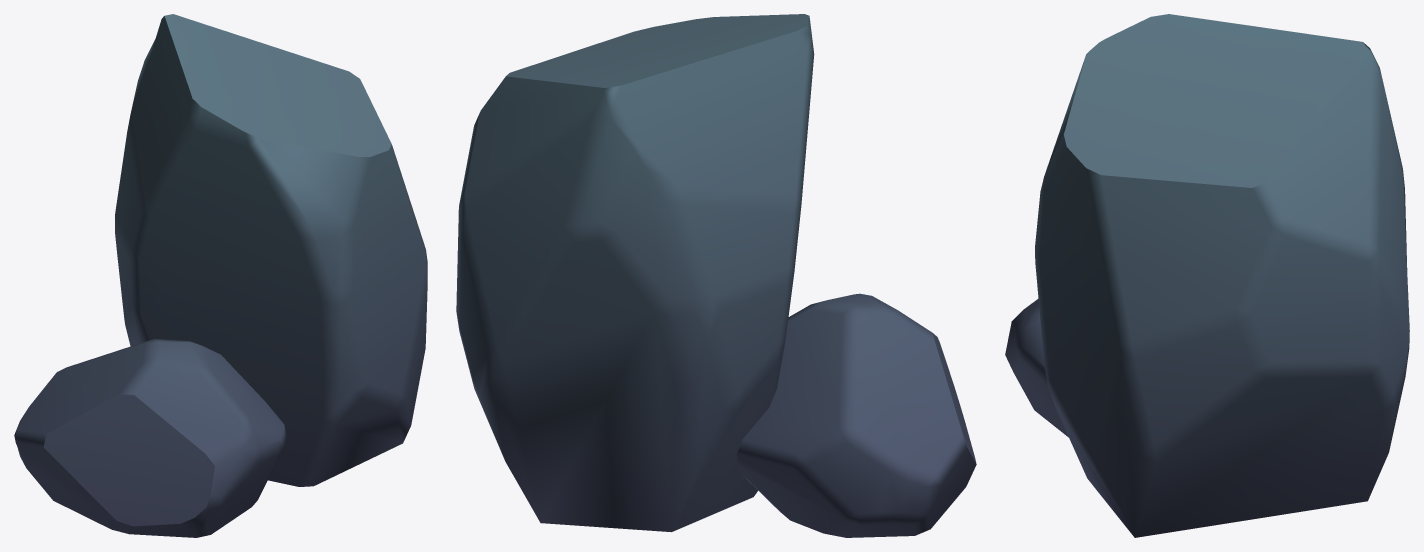
File: Coal_Ore_04_lvl .fbx
3 views of the same model, side by side, from view 1: azimuth 30°, elevation 25°; view 2: azimuth 150°, elevation 25°; view 3: azimuth 270°, elevation 25° (orthographic). The views are drawn at different scales.
Visible parts, largest first — view 1: Icosphere.025; view 2: Icosphere.025; view 3: Icosphere.025.
Boxes of the visible parts, bbox=[...] form: Icosphere.025: bbox=[14, 14, 427, 537]; Icosphere.025: bbox=[456, 14, 976, 537]; Icosphere.025: bbox=[1005, 14, 1409, 537].
Size of the model in its own units: 158 by 152 by 132.
